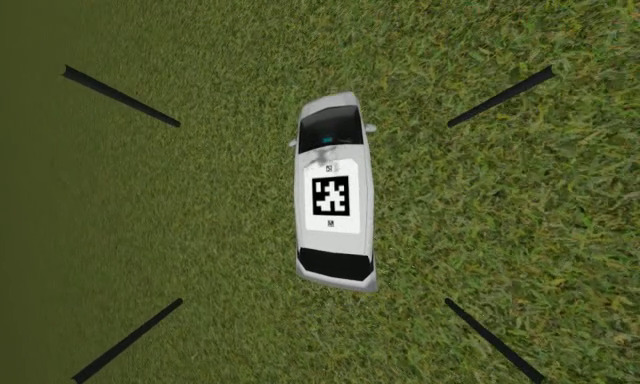Car: (289, 89, 382, 292)
Landing Pad: (304, 161, 361, 233)
